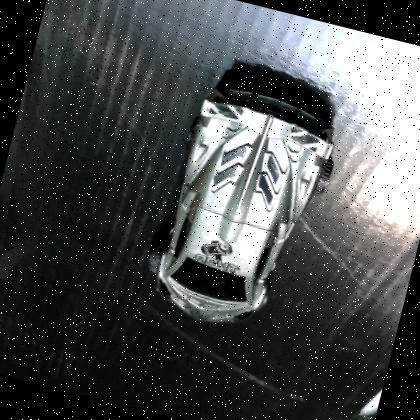Car: (156, 86, 334, 321)
